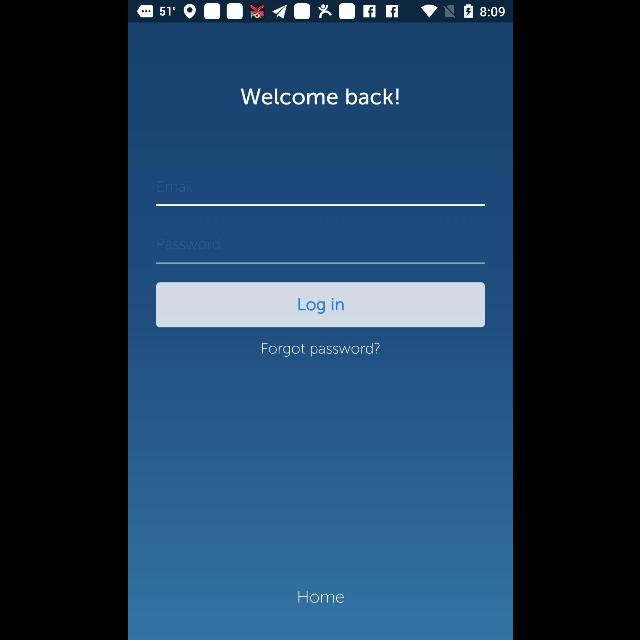input: (156, 181, 484, 207), (156, 238, 484, 264)
text: (240, 88, 398, 105), (261, 343, 379, 357), (156, 238, 220, 250), (298, 590, 344, 604), (156, 182, 192, 192)
textbutton: (156, 282, 484, 328)
uppertaskbar: (128, 1, 512, 23)
